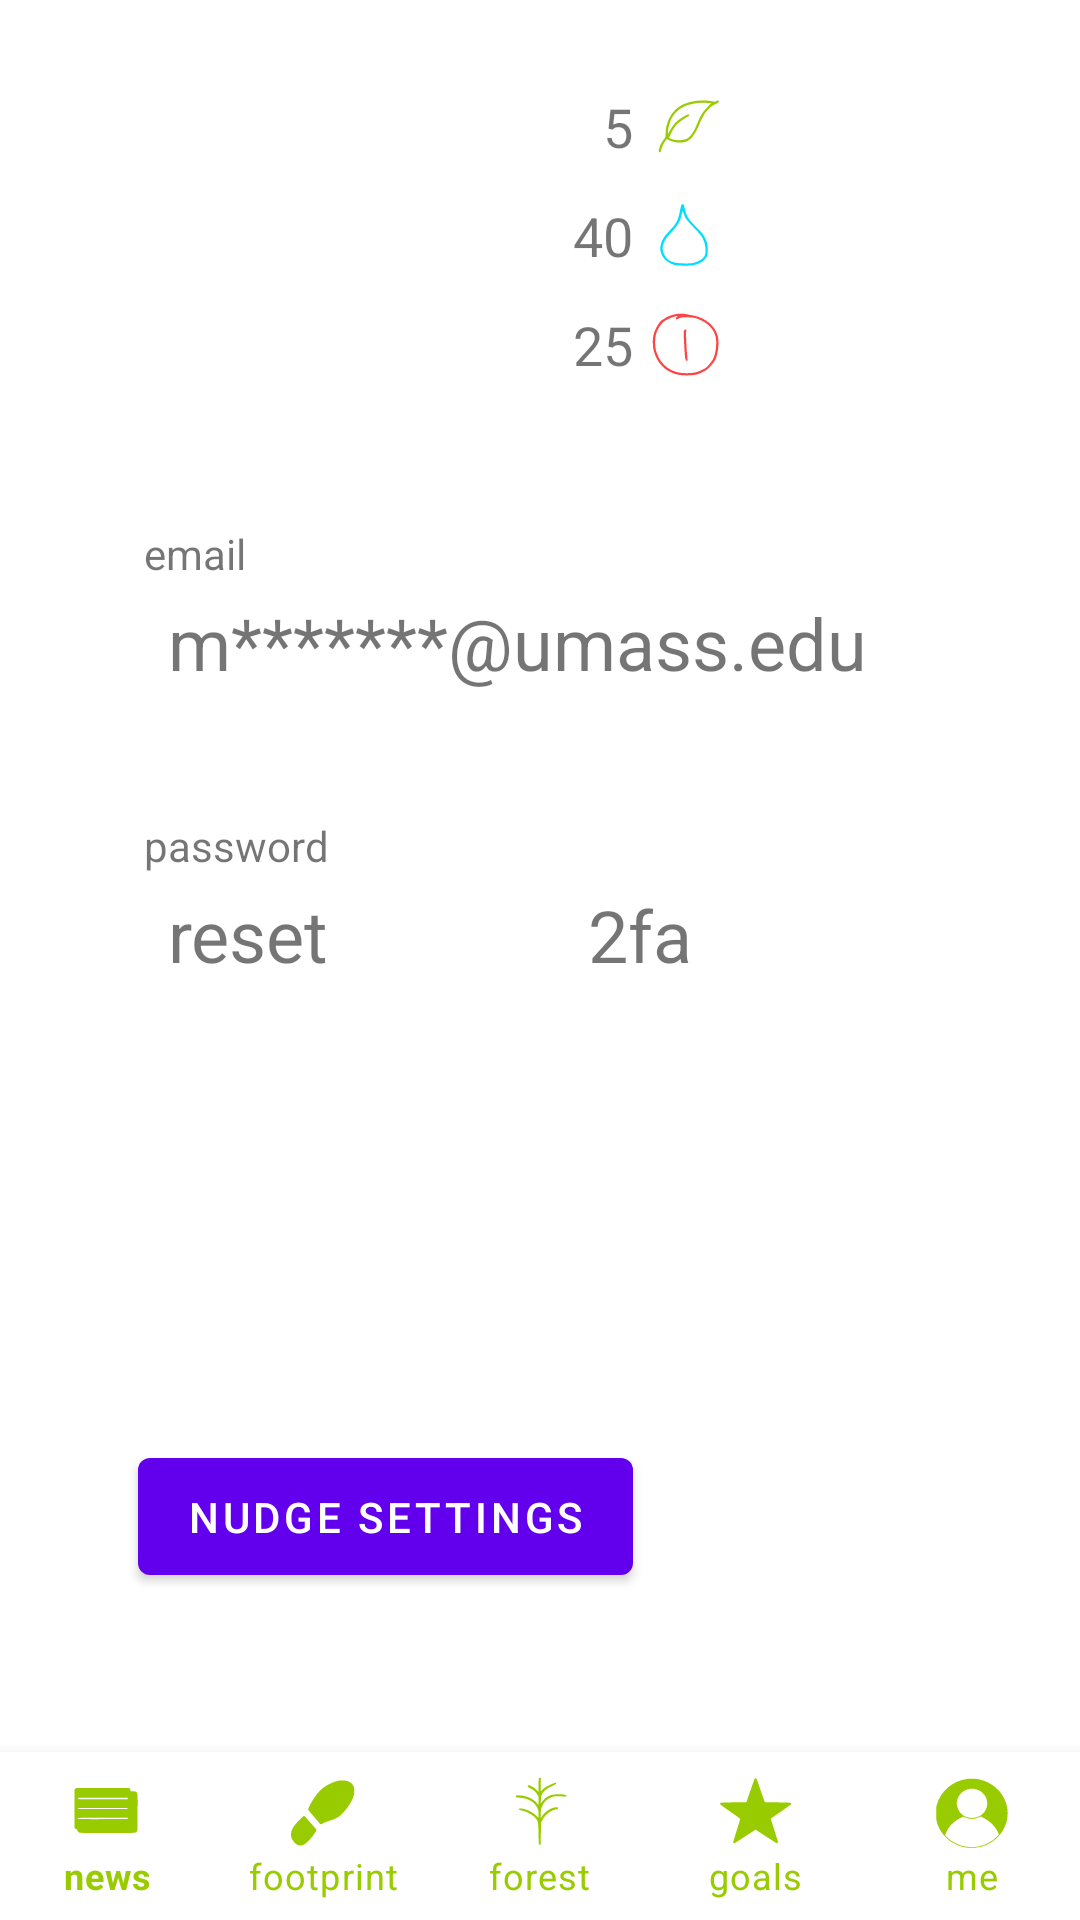

Icon click points for this 1080 x 1920 phone screenshot, format (x=x, y=y):
leaf: (x=688, y=126)
raindrop: (x=684, y=235)
